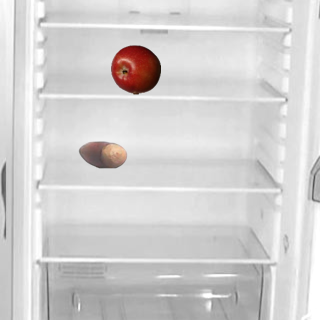Apple Braeburn: (110, 44, 160, 94)
Hazelnut: (77, 129, 127, 179)
